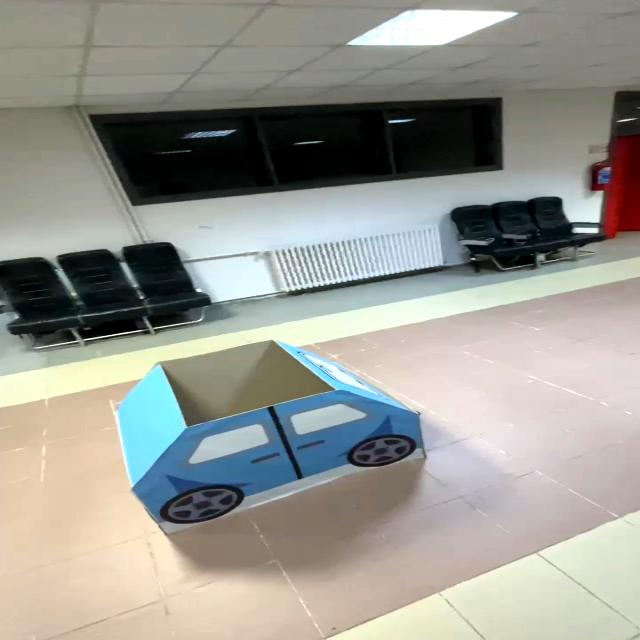blue_car: (87, 334, 450, 545)
